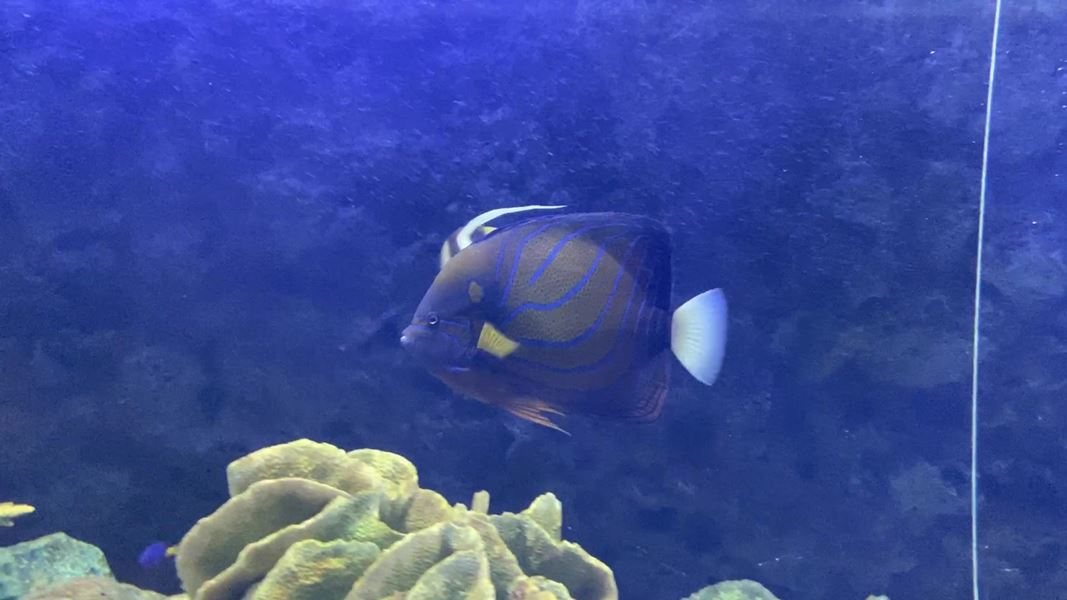Blue ring angelfish: (388, 203, 740, 452)
